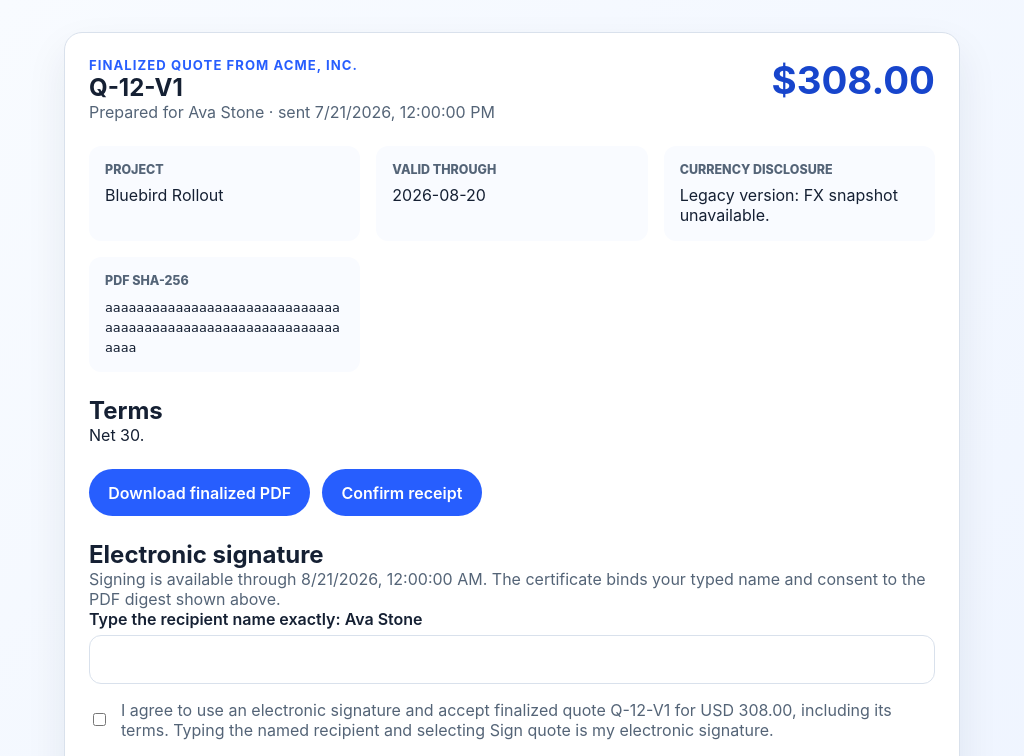
Test: public quote receipt › collects explicit typed-name consent and exposes the retained certificate after signing
expect the heading "Electronic signature" is shown: met, box [89, 540, 324, 569]
Type "Ava Stone" into the field labelled "Type the recipient name exactly: Ava Stone". click: (512, 659)
box: [89, 635, 935, 684]
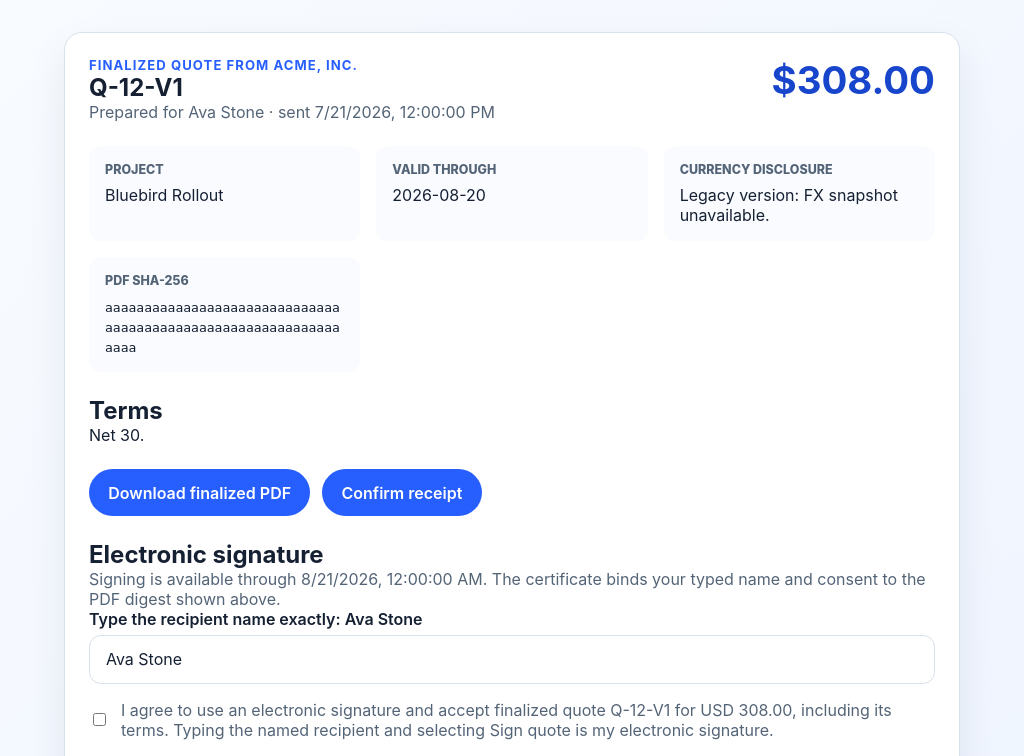
Click the checkbox labelled "I agree to use an electronic signature". click: click(100, 720)
box: [93, 714, 106, 726]
(page scrolled)
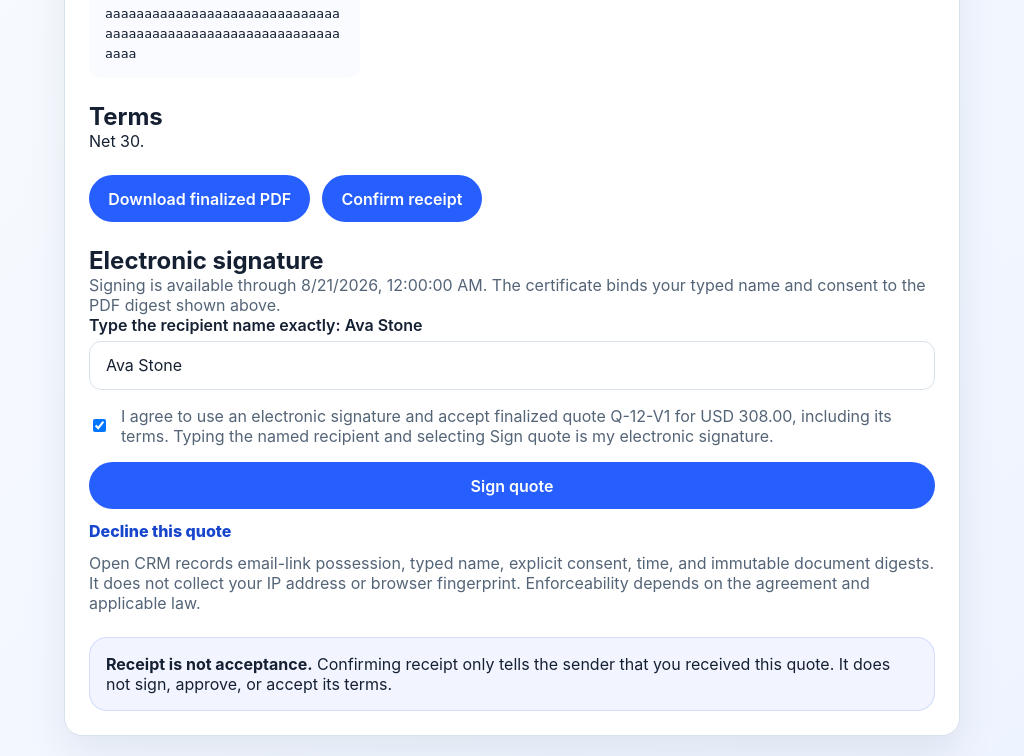
Click the button "Sign quote". click: click(512, 486)
box: [89, 462, 935, 509]
(page scrolled)
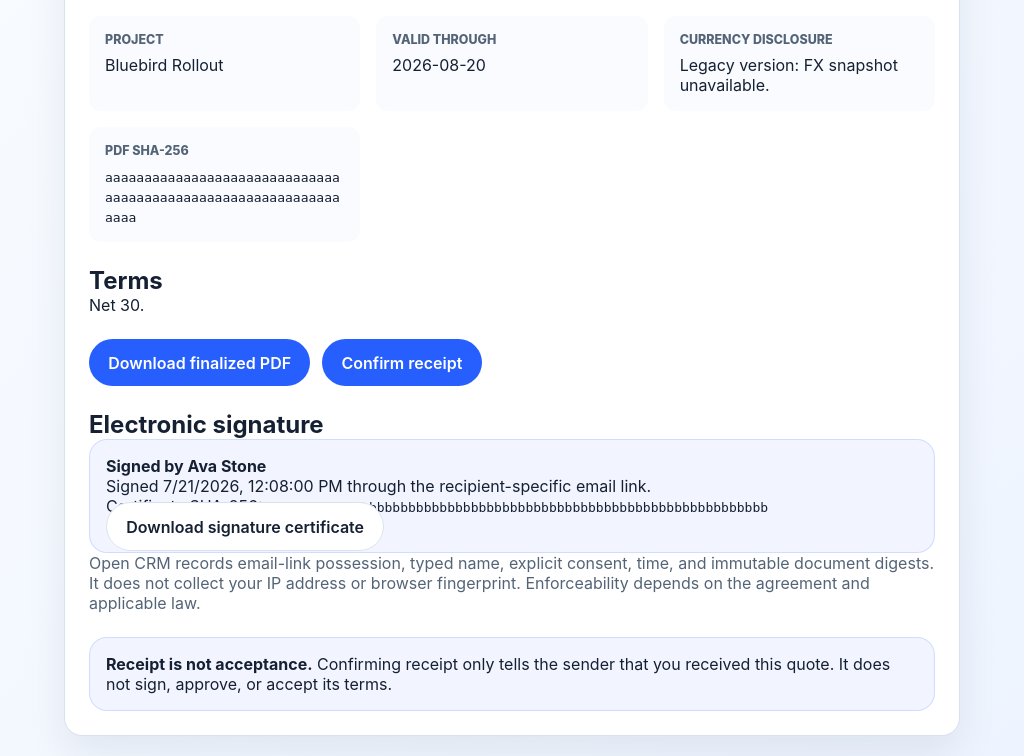
expect the text "Signed by Ava Stone" is shown: met, box [106, 456, 266, 476]
